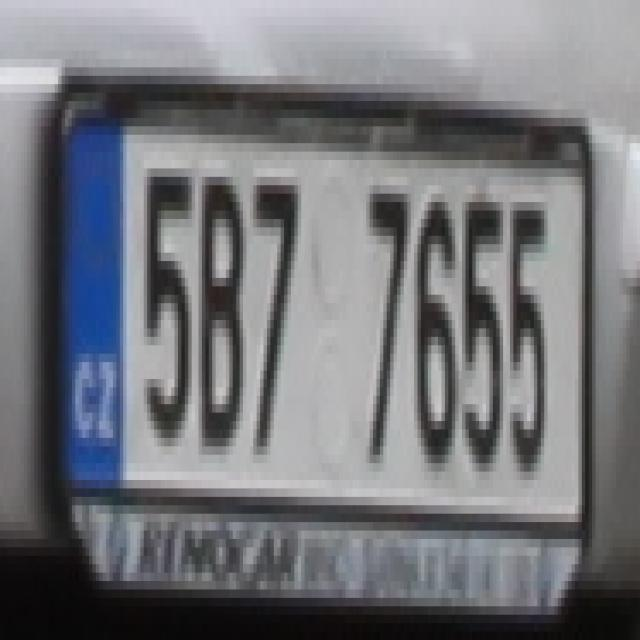5: (140, 160, 192, 446), (458, 185, 506, 463), (503, 185, 548, 480)
6: (407, 177, 455, 463)
7: (243, 177, 294, 463), (356, 177, 404, 455)
B: (199, 168, 236, 455)
